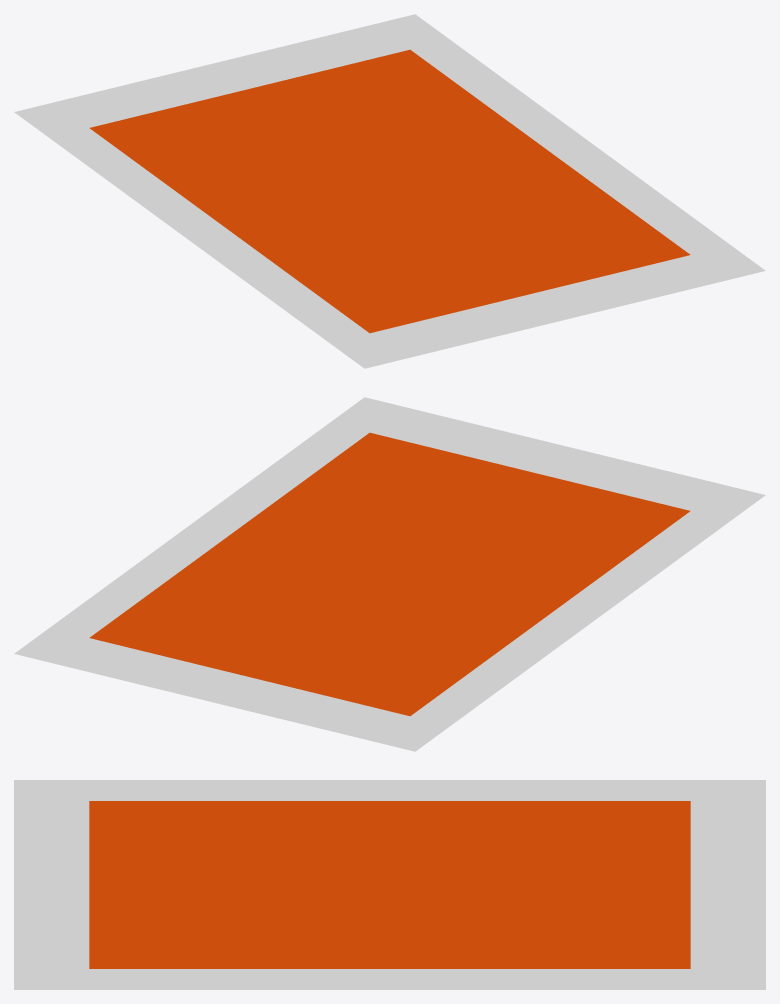
File: Rug.fbx
3 renders of one model, top to bottom at view 1: azimuth 30°, elevation 25°; view 2: azimuth 150°, elevation 25°; view 3: azimuth 270°, elevation 25°, orthographic. The views are drawn at different scales.
Visible parts, largest first — view 1: Rug; view 2: Rug; view 3: Rug.
Boxes of the visible parts, <box> form: Rug: <box>14,14,765,368</box>; Rug: <box>14,397,765,751</box>; Rug: <box>14,780,765,989</box>.
Size of the model in its own units: 7.92 by 2.22e-16 by 11.99.
